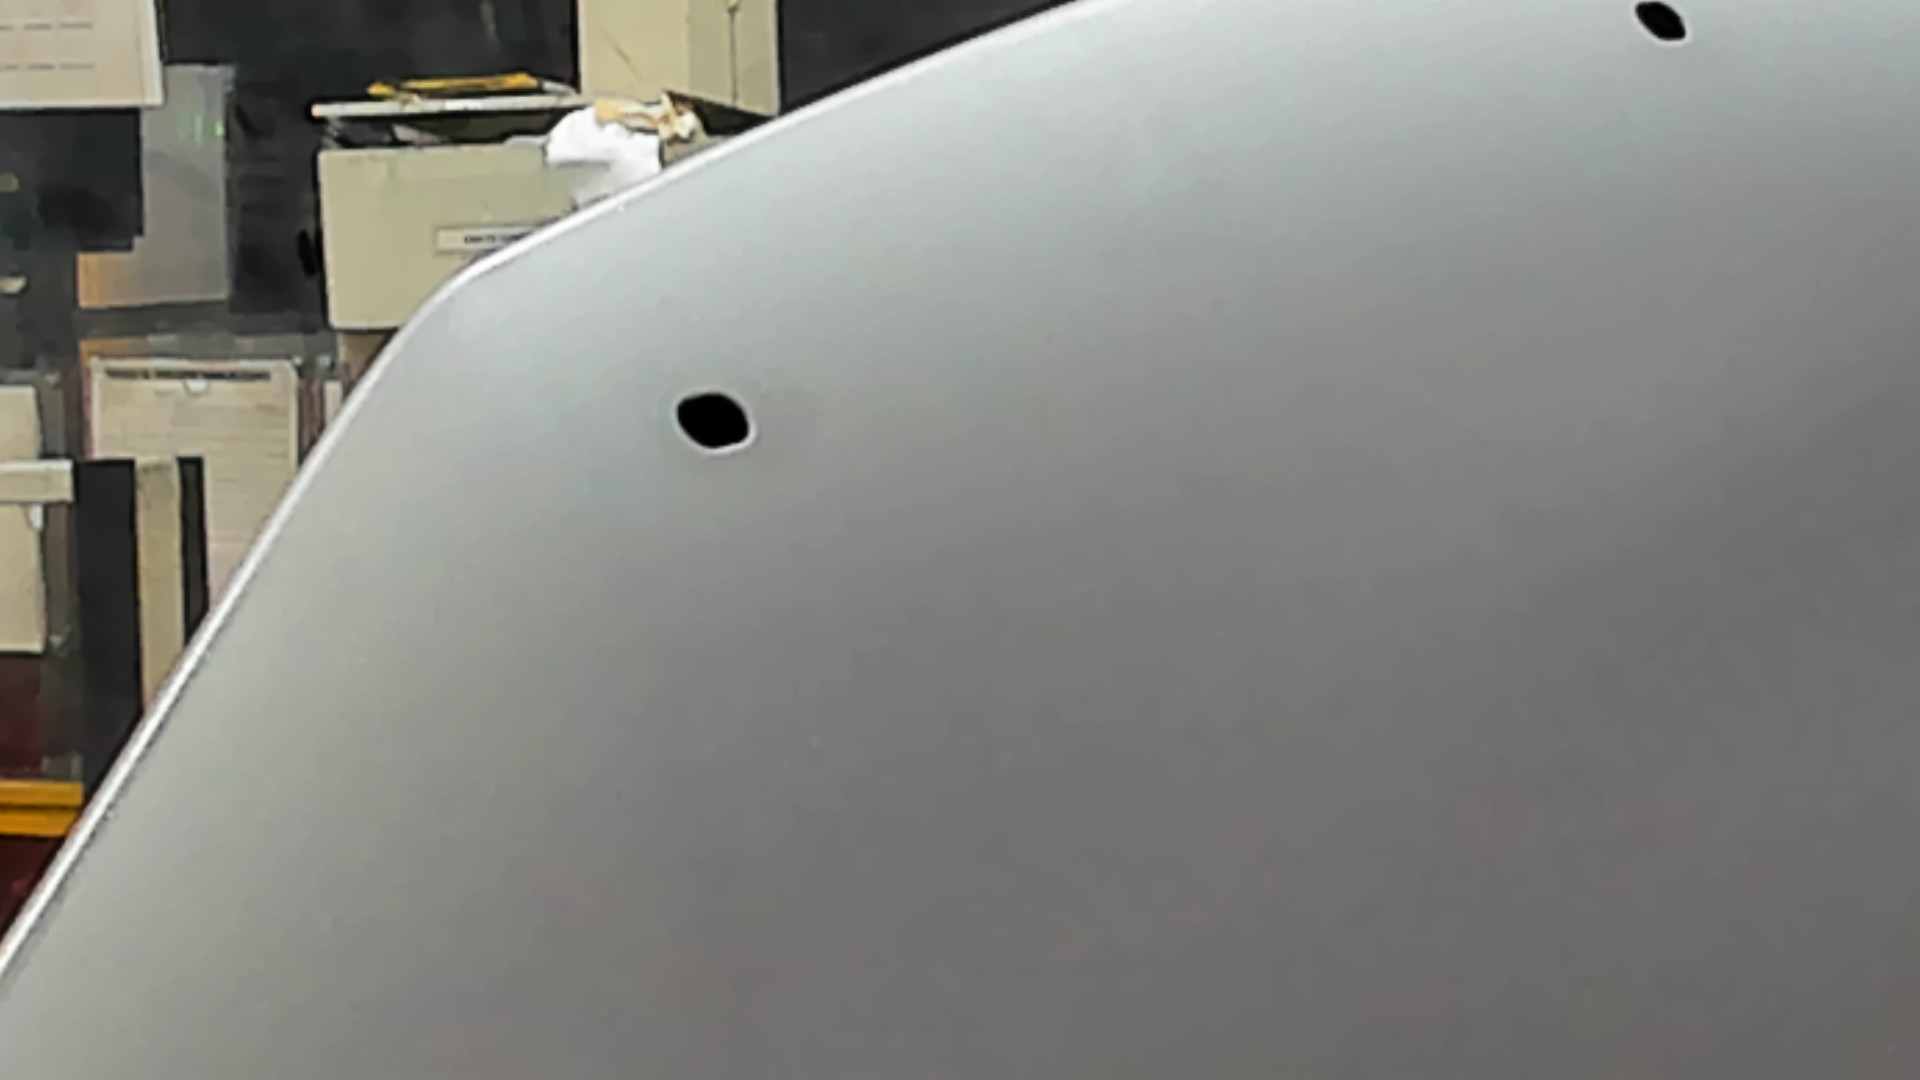Agujero: (666, 380, 764, 460), (1629, 1, 1698, 51)
